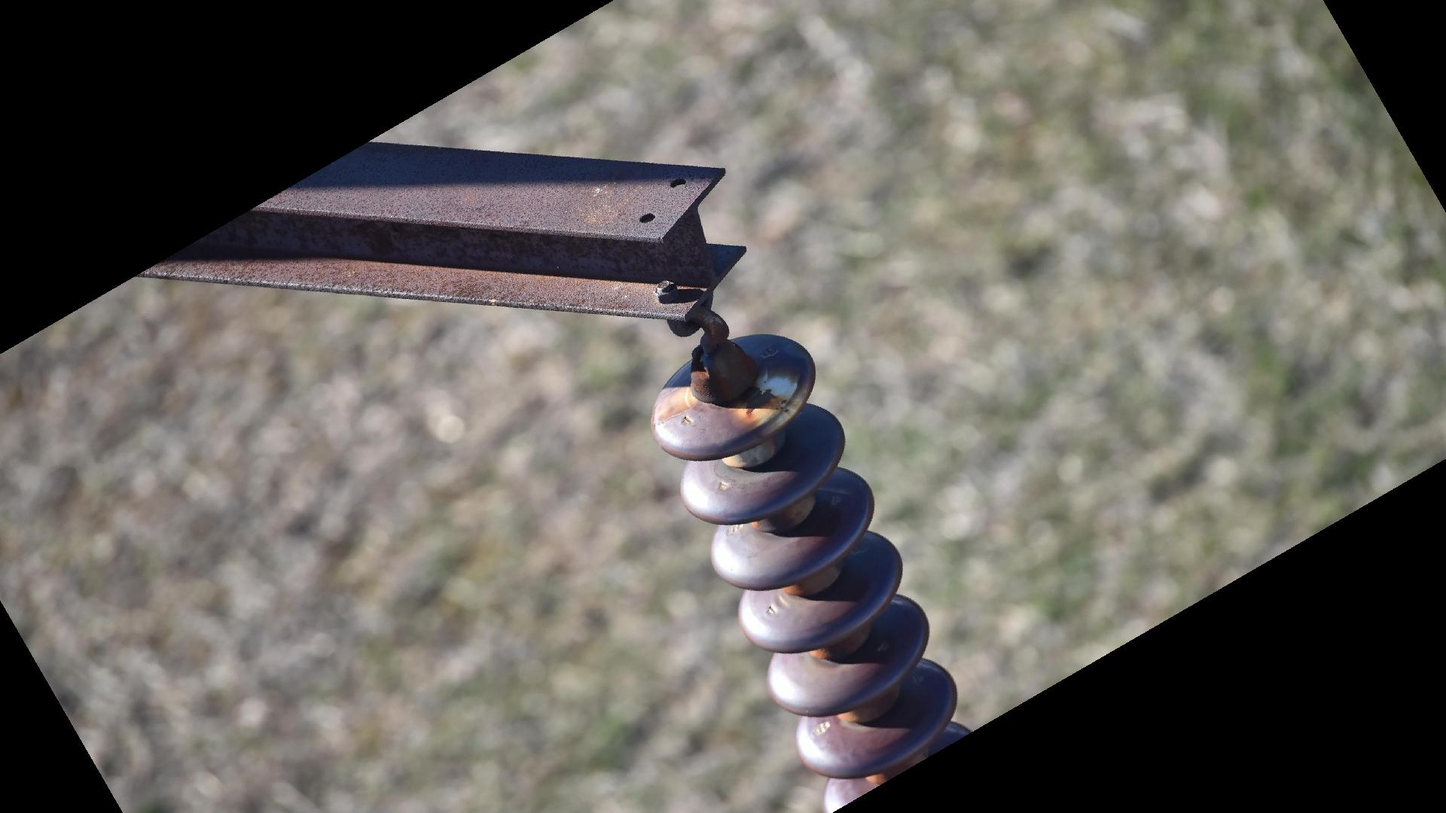insulator: (647, 330, 974, 813)
insulator_flashover: (731, 369, 810, 434), (647, 383, 702, 425)
